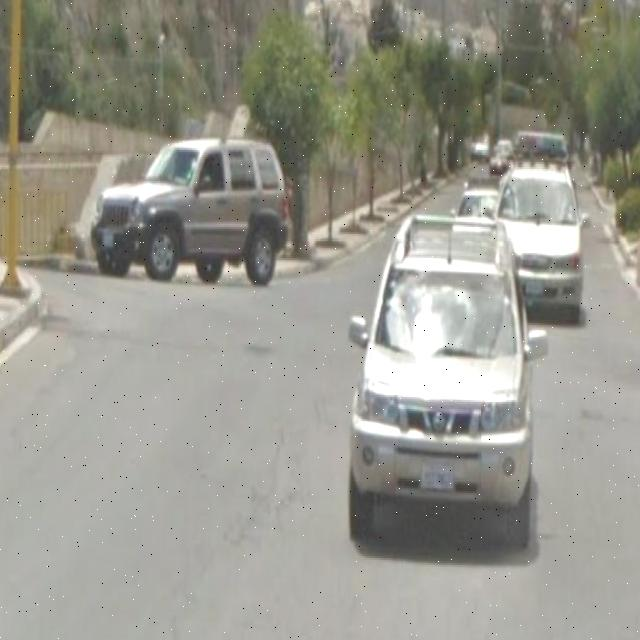car: (358, 232, 535, 567), (92, 130, 289, 282), (511, 146, 587, 316)
